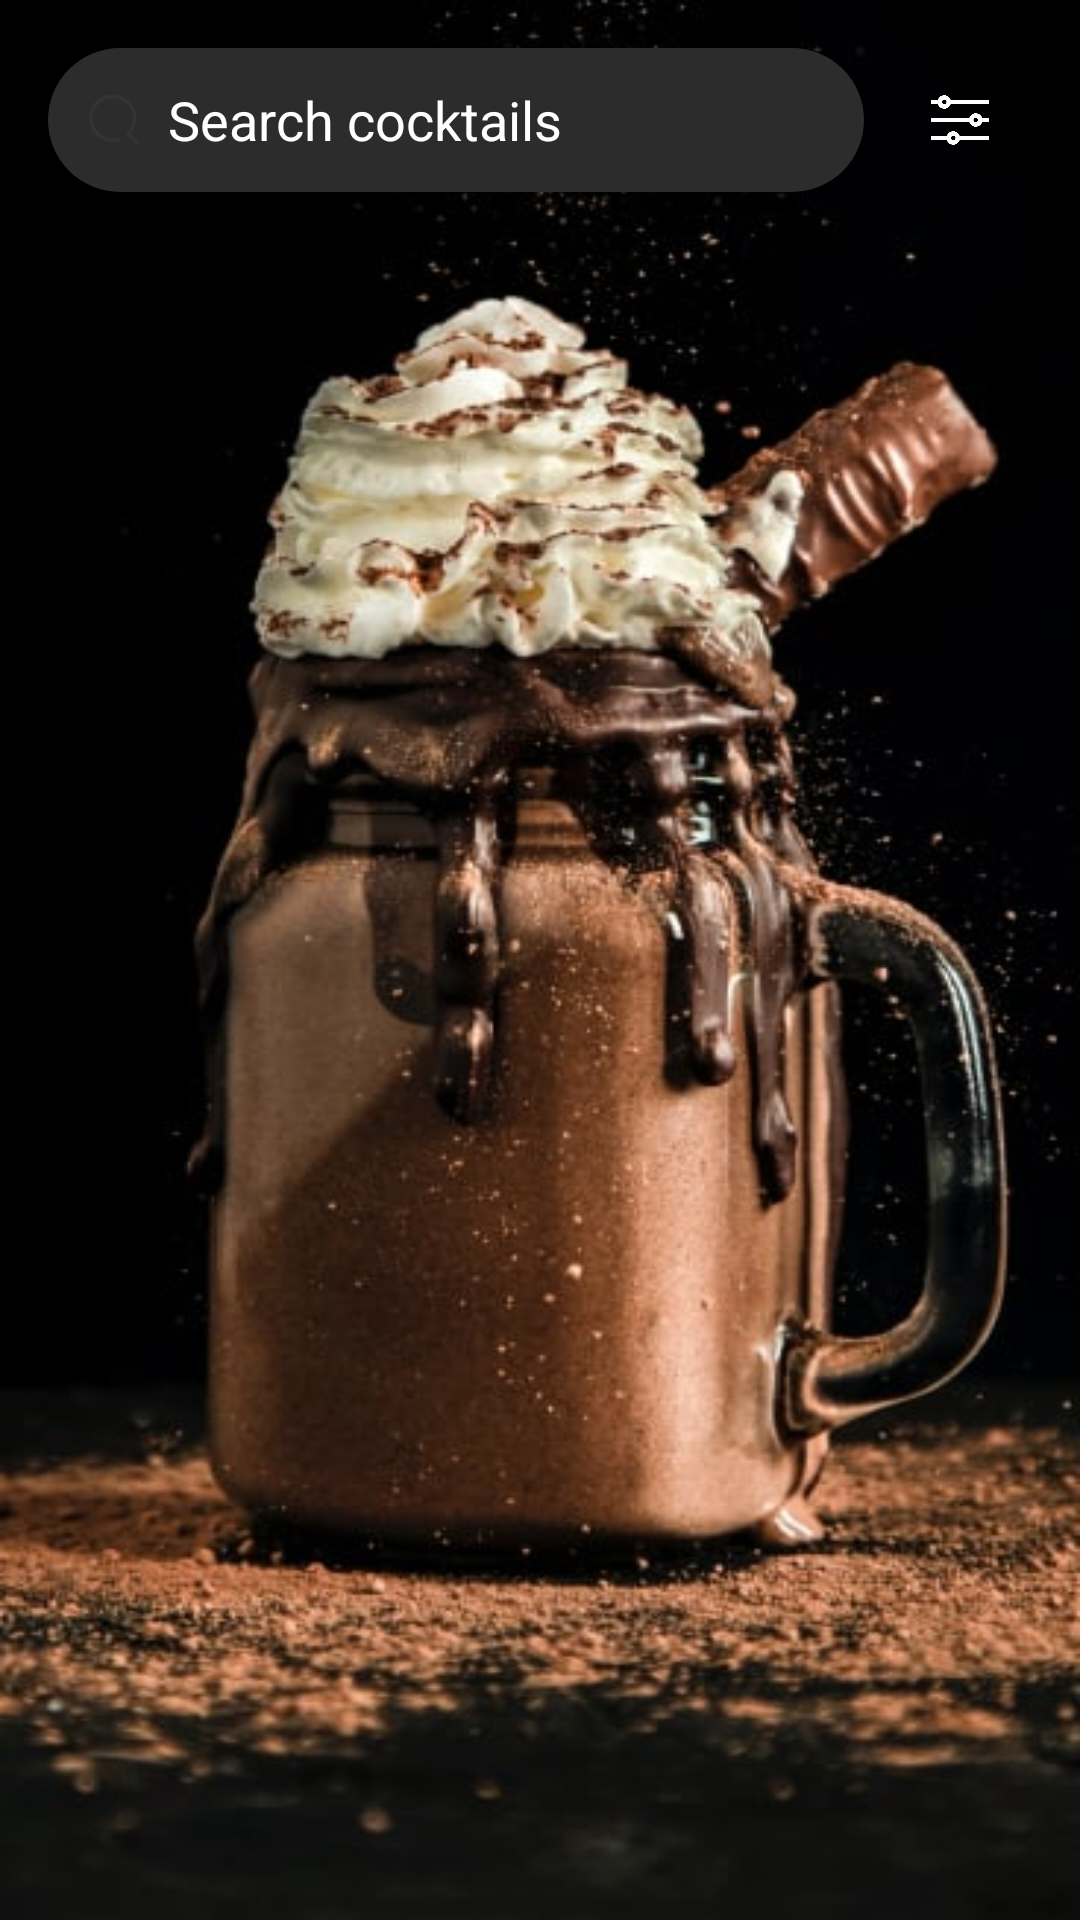

Named icons in this screenshot (1080 × 1920) and their bounding boxes, (x1, y1, x2, y2):
filter list: (931, 95, 989, 145)
